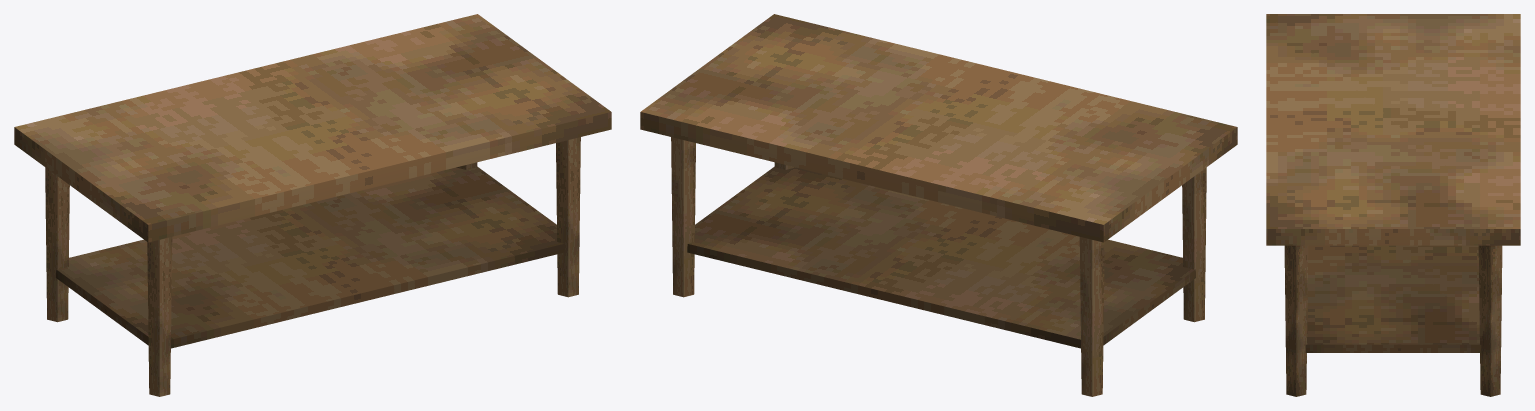
The model's file is coffee_table_oak.glb.
3 views of the same model, side by side, from view 1: azimuth 30°, elevation 25°; view 2: azimuth 150°, elevation 25°; view 3: azimuth 270°, elevation 25° (orthographic). The views are drawn at different scales.
Parts seen in each view (by area): view 1: coffee_table_oak; view 2: coffee_table_oak; view 3: coffee_table_oak.
Part boxes in pixels (x1,y1,x2,y2): coffee_table_oak: [14, 14, 611, 396]; coffee_table_oak: [640, 14, 1237, 396]; coffee_table_oak: [1266, 14, 1520, 396].
Bounding box in the file's own units: 1.1 × 0.42 × 0.55.
Materials: 1 (1 with a texture image).
